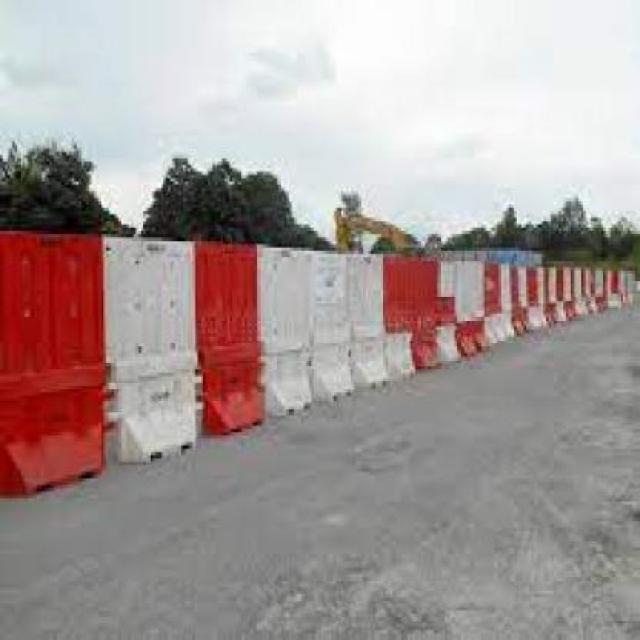fallen_object: (0, 216, 116, 489), (83, 223, 205, 460), (175, 230, 273, 436), (486, 235, 640, 337), (246, 235, 321, 417), (393, 259, 522, 352), (306, 237, 374, 400), (347, 249, 433, 377)
